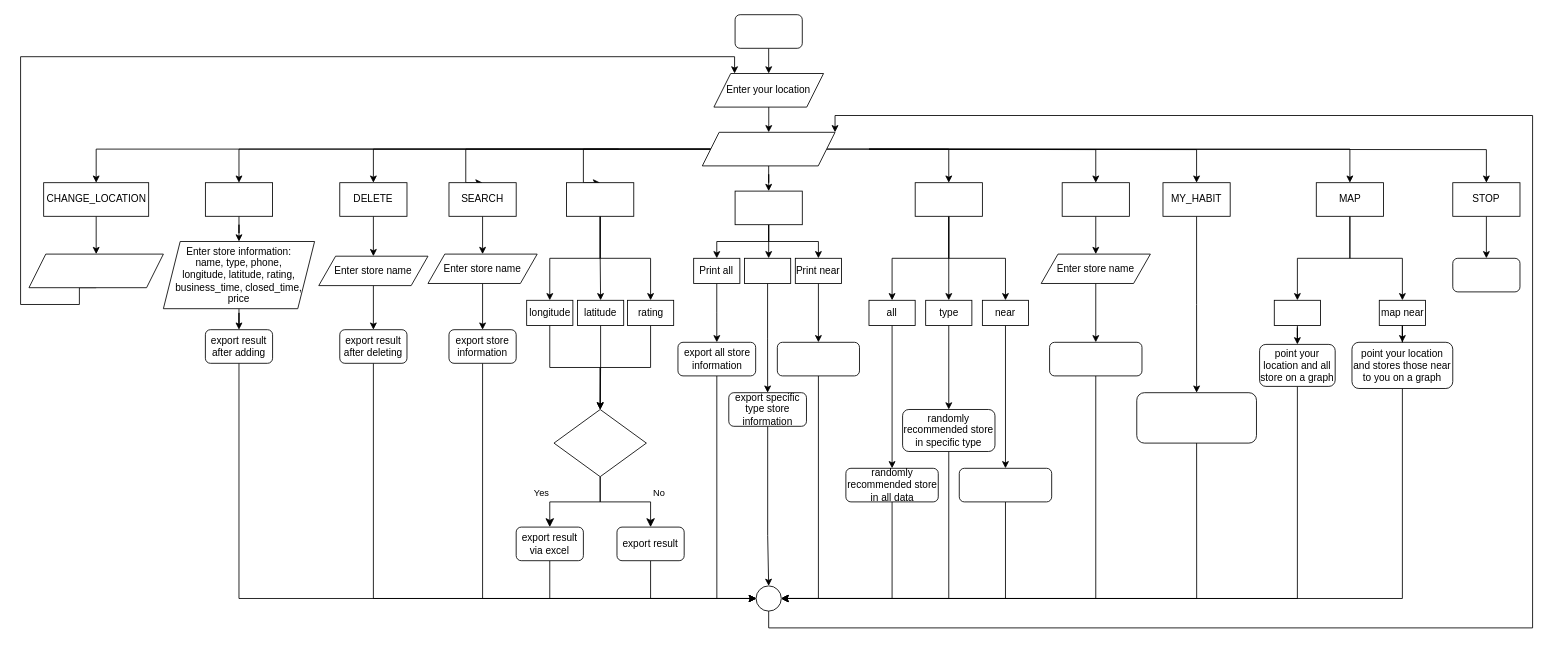
This 1554x649 diagram has some shape labels left out. The box of each missing label's shape, as (x1, y1, x2, y2) in pixels:
compute the distance between the store and you: (1049, 341, 1142, 376)
DISTANCE: (1061, 182, 1129, 216)
End: (1452, 257, 1520, 292)
Enter your new location: (28, 253, 163, 288)
export store information which near to you: (776, 341, 859, 376)
export to excel?: (553, 409, 646, 477)
INSERT: (205, 182, 273, 216)
map all: (1273, 299, 1320, 326)
PRINT: (734, 190, 802, 225)
Print type: (744, 257, 791, 284)
RANDOM: (914, 182, 982, 216)
randomly recommended store in specific type according to your search history: (1136, 392, 1256, 443)
randomly recommended store which is near to you: (958, 467, 1052, 502)
SORT: (566, 182, 634, 216)
Start: (734, 14, 802, 48)
what do you want to do?: (701, 131, 835, 166)
